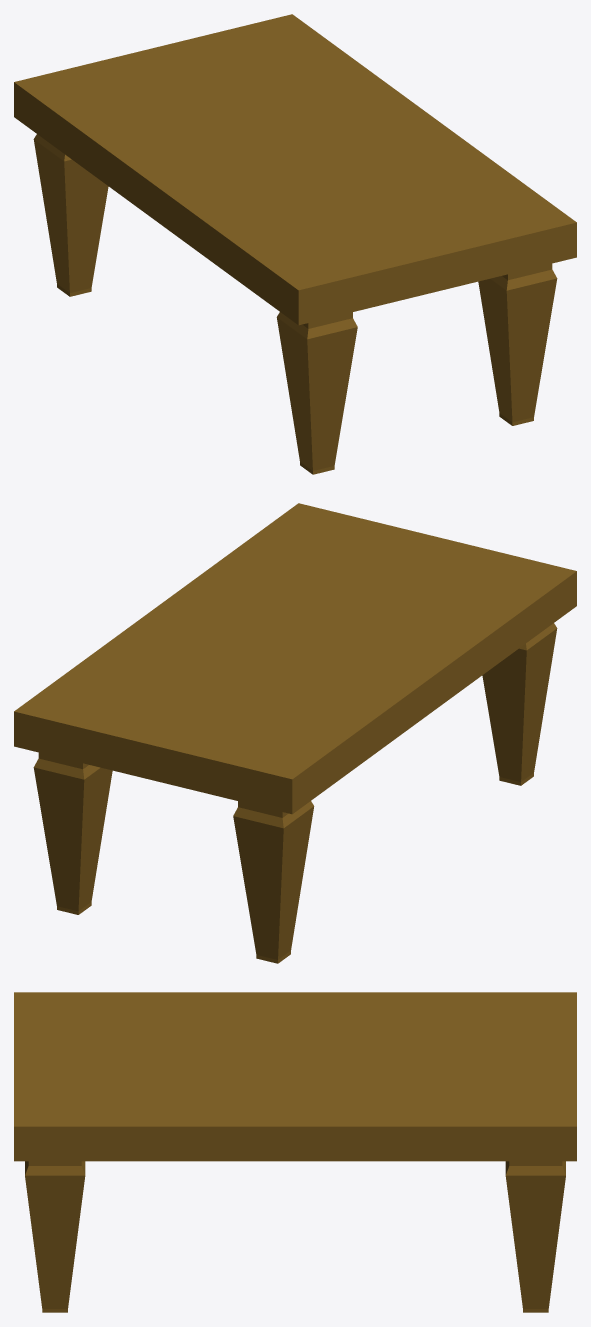
The model's file is Table.fbx.
3 renders of one model, top to bottom at view 1: azimuth 30°, elevation 25°; view 2: azimuth 150°, elevation 25°; view 3: azimuth 270°, elevation 25°, orthographic.
Visible parts, largest first — view 1: Cube; view 2: Cube; view 3: Cube.
Part boxes in pixels (x1,y1,x2,y2): Cube: [14, 14, 576, 474]; Cube: [14, 503, 576, 963]; Cube: [14, 992, 576, 1312].
Bounding box in the file's own units: 288 × 200 × 510.
